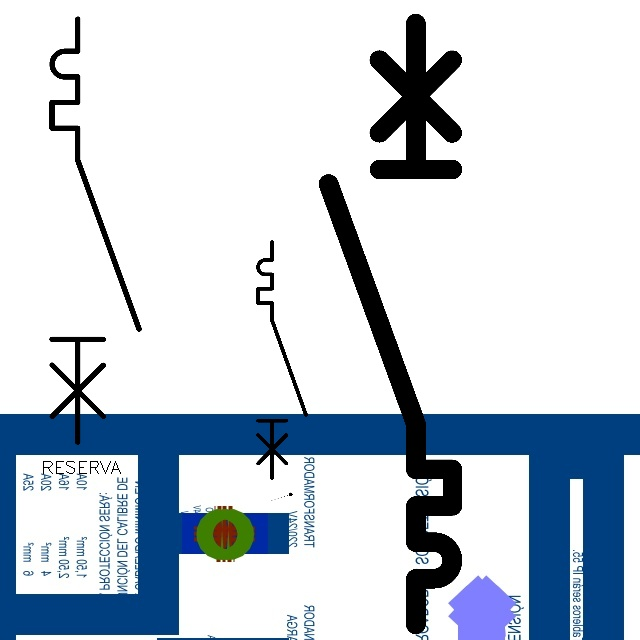interruptor_termomagnetico: (313, 8, 468, 640), (41, 8, 150, 452), (252, 236, 312, 484)
